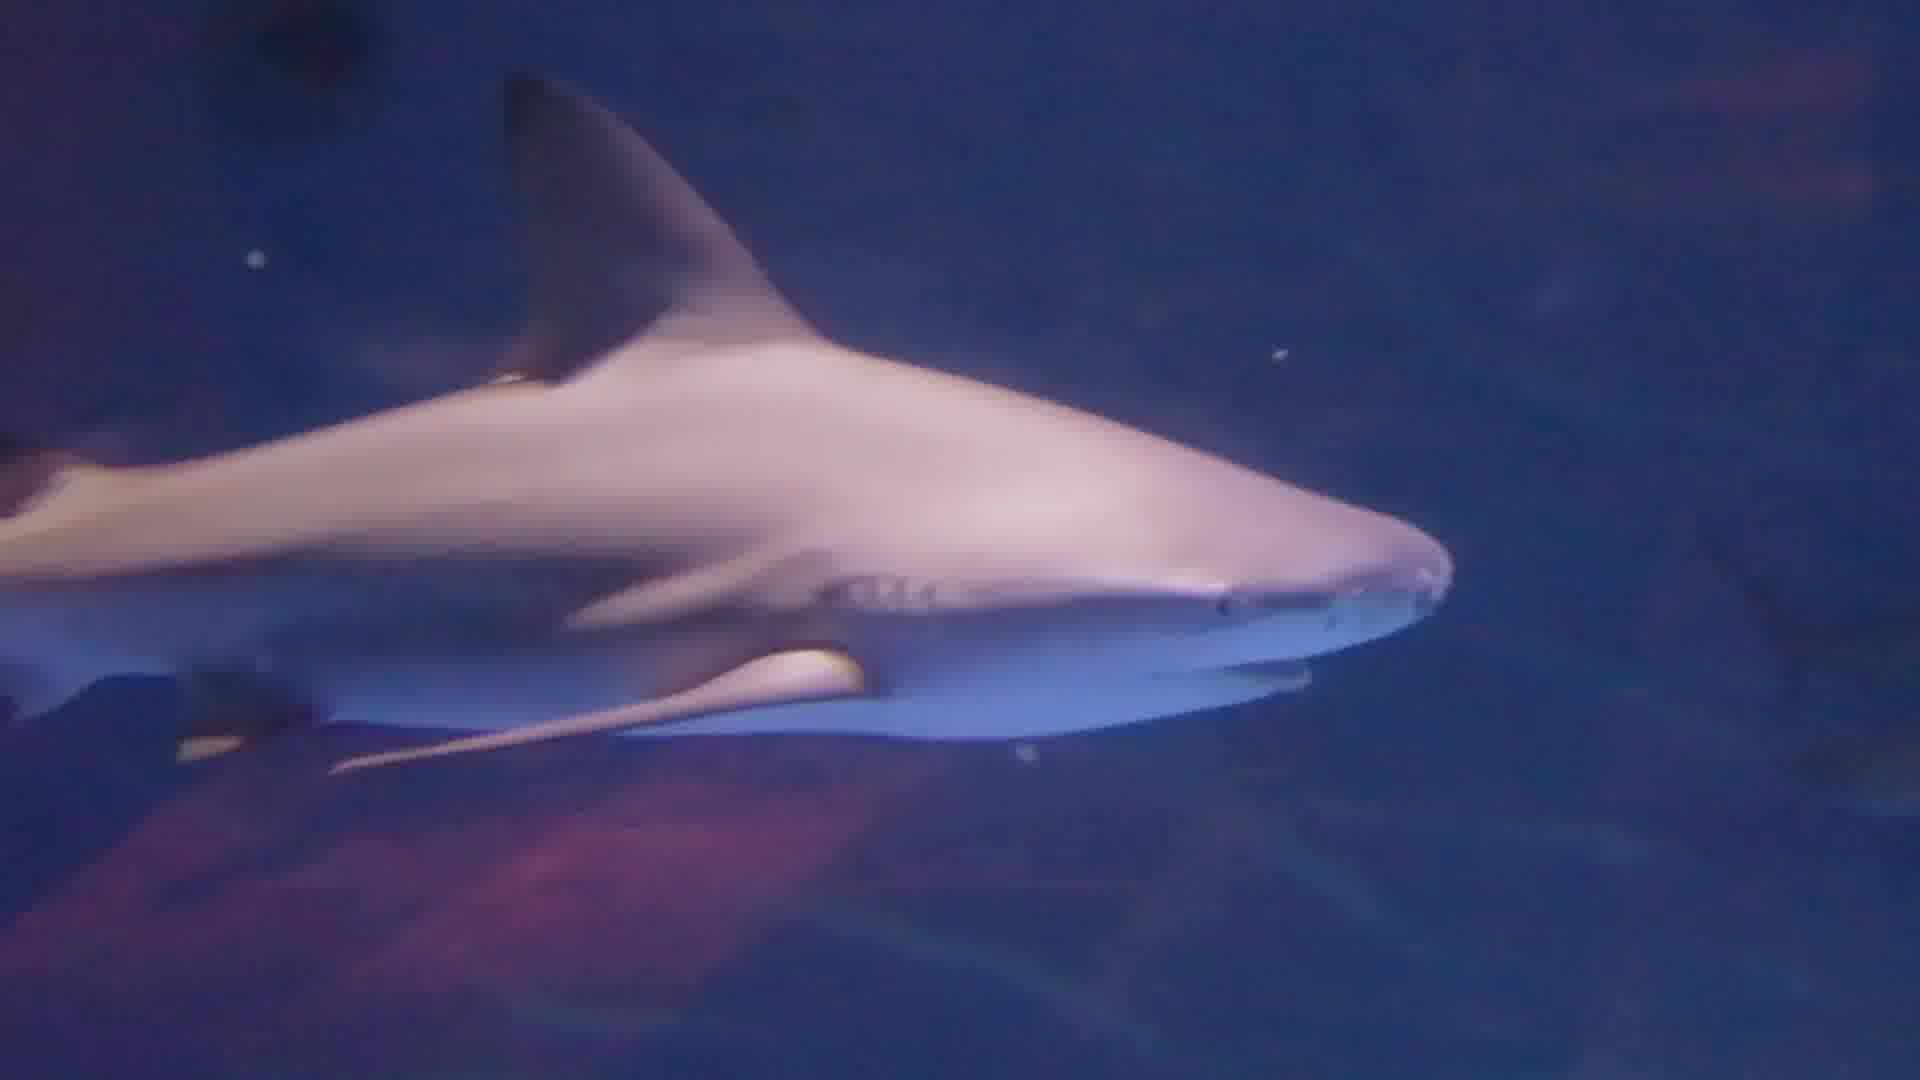Carcharhinus leucas: (28, 73, 1445, 807)
